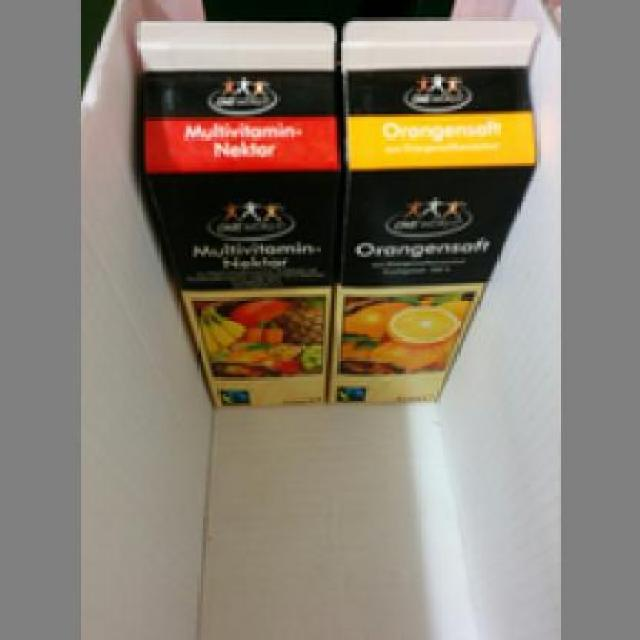Juice: (128, 20, 341, 406), (326, 20, 537, 403)
